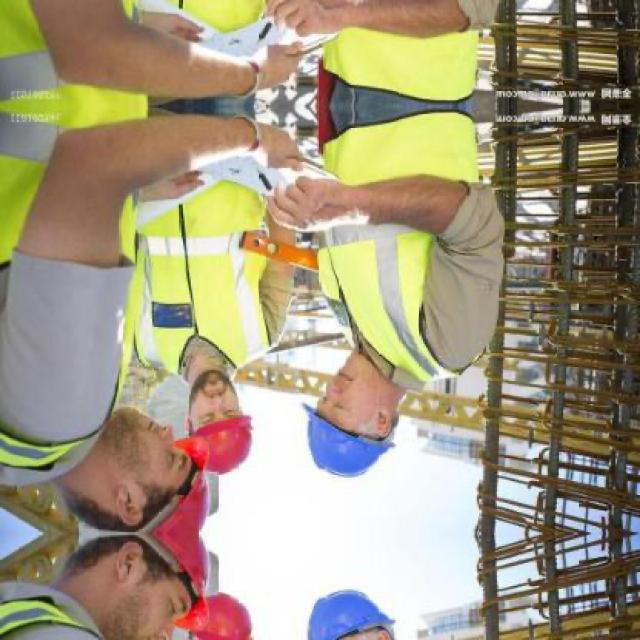con casco: (11, 403, 220, 549), (298, 345, 422, 487), (192, 351, 268, 483)
